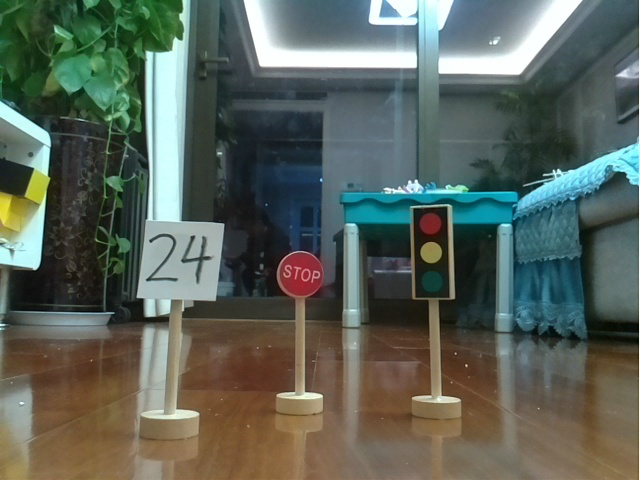Red Traffic Light: (402, 194, 470, 427)
Speed Limit 24: (138, 212, 226, 443)
Stop Sign: (272, 244, 327, 420)
